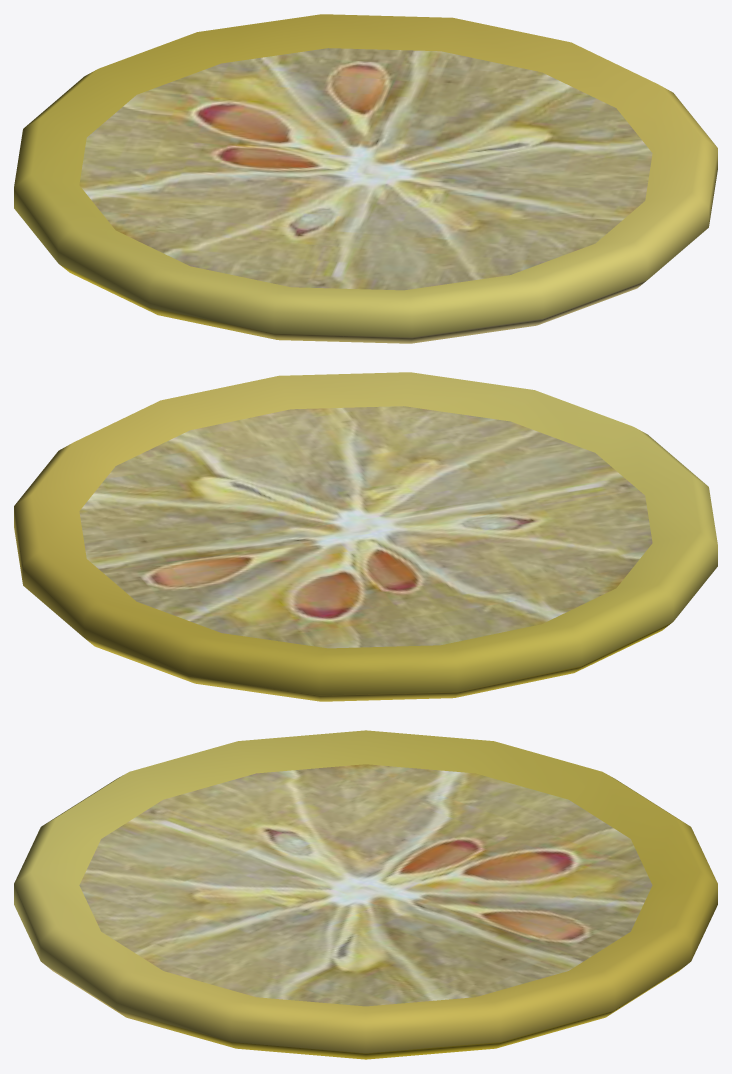
Rendered from PizzaLimon_obj.obj.
3 views of the same model, one above another, from view 1: azimuth 30°, elevation 25°; view 2: azimuth 150°, elevation 25°; view 3: azimuth 270°, elevation 25° (orthographic).
Visible parts, largest first — view 1: PizzaLimon; view 2: PizzaLimon; view 3: PizzaLimon.
Boxes of the visible parts, bbox=[...] form: PizzaLimon: bbox=[14, 14, 717, 343]; PizzaLimon: bbox=[14, 372, 717, 701]; PizzaLimon: bbox=[14, 730, 717, 1059].
Size of the model in its own units: 8.54 by 0.5972 by 8.54.
